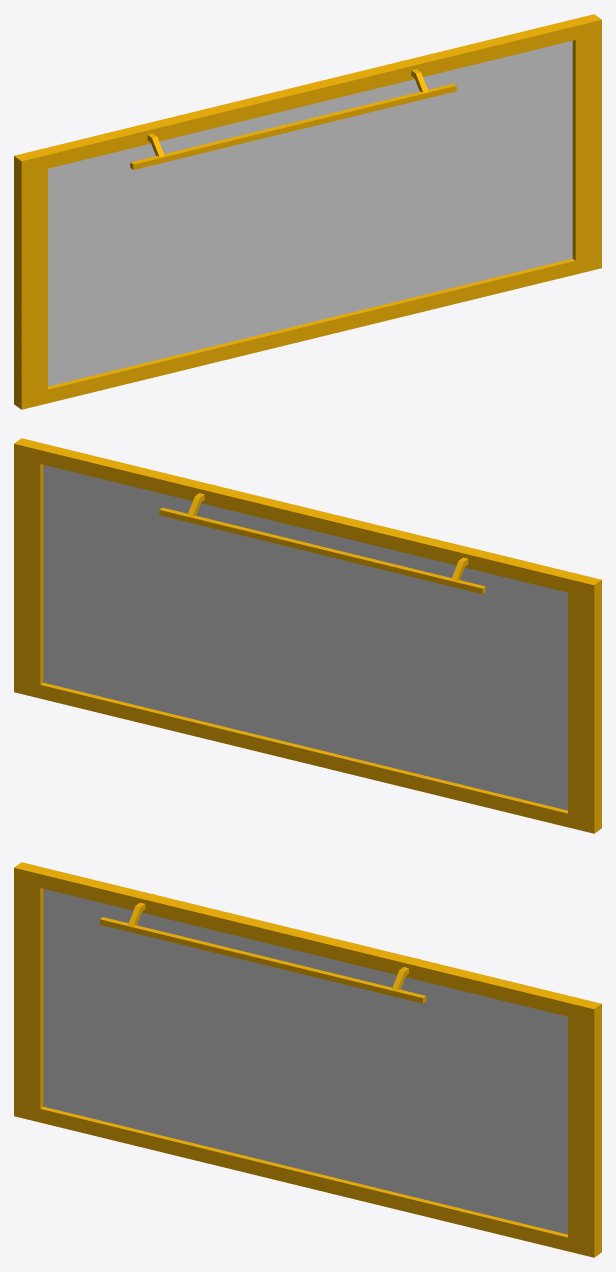
Rendered from curtain_wall_door_4x1x9_dynamic.dae.
3 views of the same model, one above another, from view 1: azimuth 30°, elevation 25°; view 2: azimuth 150°, elevation 25°; view 3: azimuth 330°, elevation 25° (orthographic).
Parts seen in each view (by area): view 1: Cube; view 2: Cube; view 3: Cube.
Boxes of the visible parts, x1,y1,x2,y2 form: Cube: (14,14,601,409); Cube: (14,438,601,833); Cube: (14,862,601,1257).
Size of the model in its own units: 2.2 by 0.22 by 0.9.
